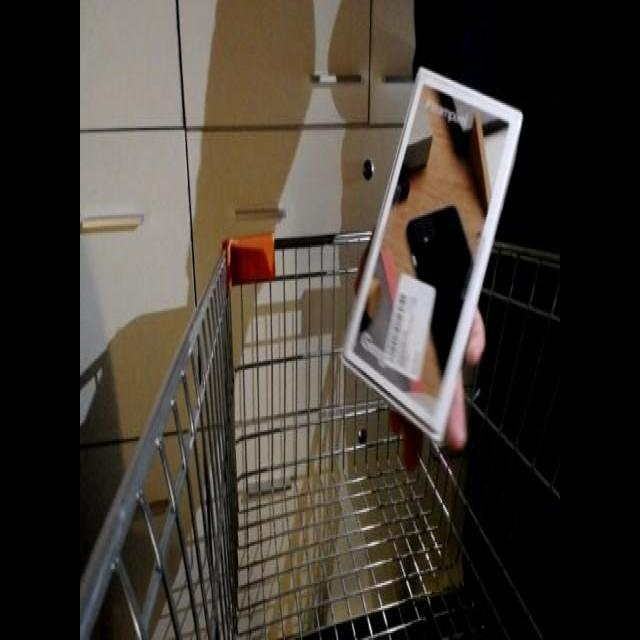Pixel 4: (332, 49, 546, 451)
